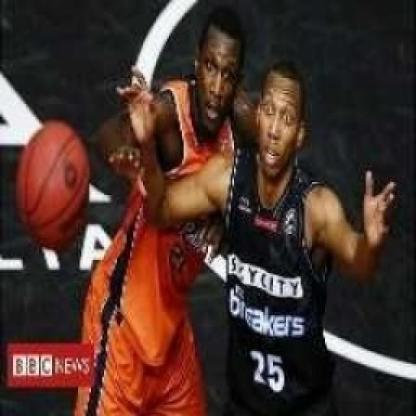basketball: (14, 118, 96, 250)
